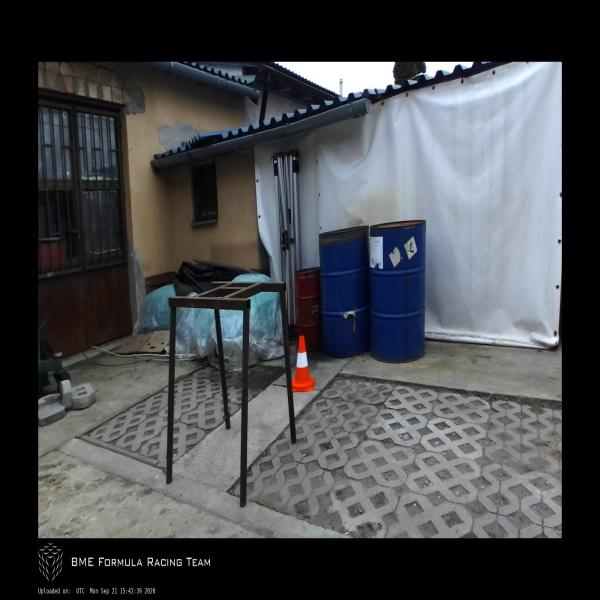orange_cone: (292, 336, 315, 392)
